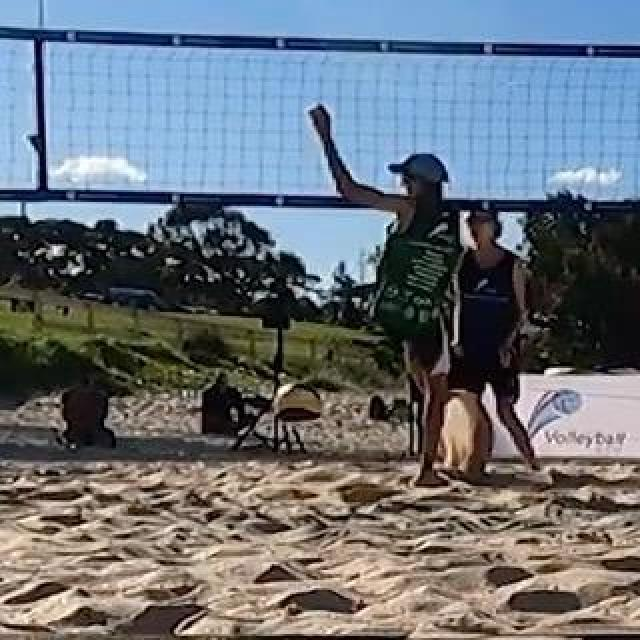volleyball: (275, 381, 321, 429)
